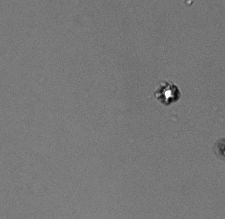Living Cell: (156, 83, 180, 103)
